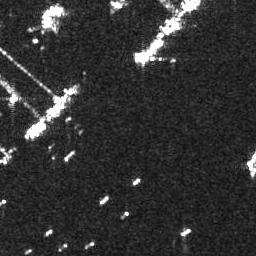ship: (30, 123, 48, 139), (180, 226, 192, 238), (63, 151, 76, 162), (99, 195, 109, 206), (131, 176, 142, 186), (45, 229, 53, 237)
